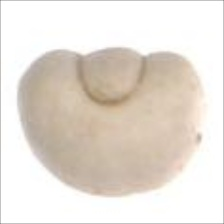L5: (70, 46, 153, 111)
L6: (16, 46, 207, 199)
